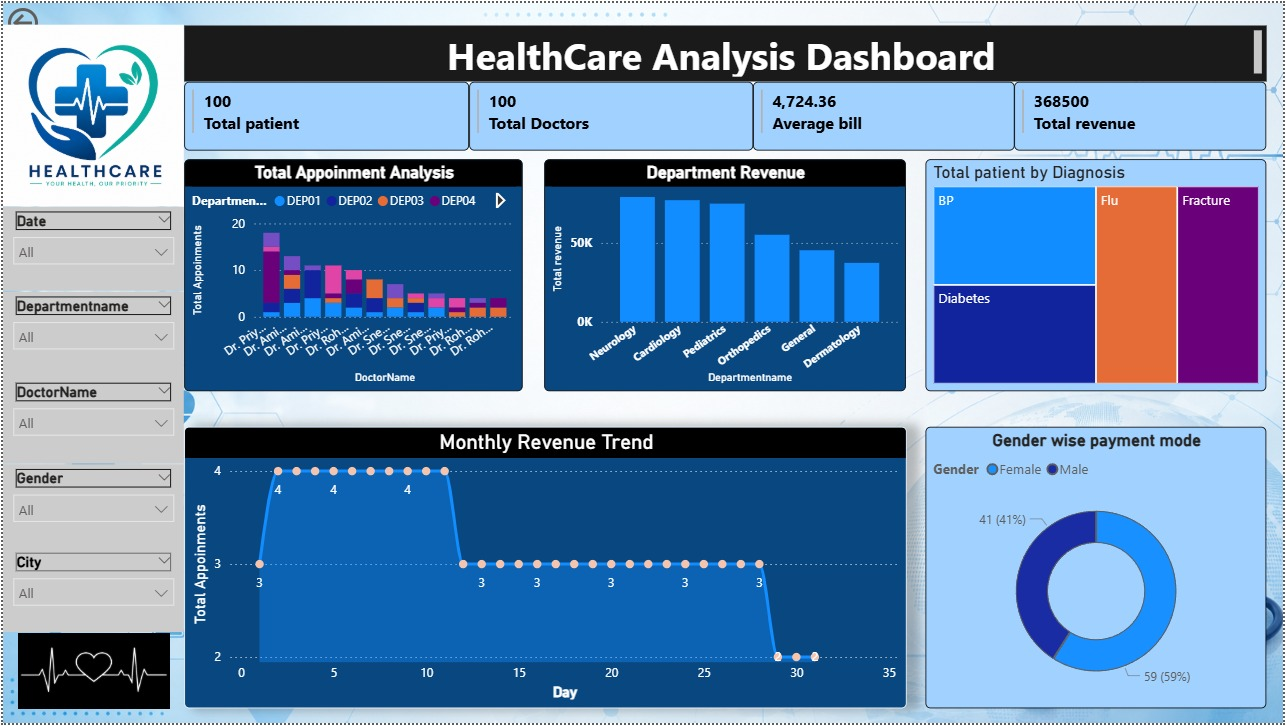

This screenshot's page, from the dashboard's own definition file:
{"tool":"powerbi","page":{"name":"Page 1","canvas":[1280,720],"ordinal":0},"visuals":[{"type":"image","box":[0,0,1280.3,720.2],"z":0},{"type":"multiRowCard","fields":{"Values":["Patients.Total patient"]},"box":[181,78.3,284.9,68.5],"z":1000},{"type":"multiRowCard","fields":{"Values":["Doctors.Total Doctors"]},"box":[465.9,78.3,283.7,68.5],"z":2000},{"type":"multiRowCard","fields":{"Values":["Billing.average bill"]},"box":[749.6,78.3,261.7,68.5],"z":3000},{"type":"multiRowCard","fields":{"Values":["Billing.Total revenue"]},"box":[1011.3,78.3,251.9,68.5],"z":4000},{"type":"lineChart","title":"Monthly Revenue Trend","fields":{"Y":["Appointments.Total Appoinments"],"Category":["Date table.Day"]},"box":[181,424.3,722.7,281.3],"z":5000},{"type":"columnChart","title":"Total Appoinment Analysis","fields":{"Category":["Doctors.DoctorName"],"Y":["Appointments.Total Appoinments"],"Series":["Departments.DepartmentID"]},"box":[181,156.5,338.7,232.3],"z":6000},{"type":"clusteredColumnChart","title":"Department Revenue","fields":{"Category":["Departments.Departmentname"],"Y":["Billing.Total revenue"]},"box":[541.7,156.5,362,232.3],"z":7000},{"type":"textbox","box":[181,22,1082.2,56.3],"z":8000},{"type":"actionButton","box":[0,0,100,40],"z":9000},{"type":"slicer","fields":{"Values":["Appointments.Date"]},"box":[0,204.2,181,84.4],"z":10000},{"type":"slicer","fields":{"Values":["Departments.Departmentname"]},"box":[0,288.6,181,86.8],"z":11000},{"type":"slicer","fields":{"Values":["Doctors.DoctorName"]},"box":[0,375.4,181,85.6],"z":12000},{"type":"slicer","fields":{"Values":["Patients.Gender"]},"box":[0,461,181,84.4],"z":13000},{"type":"slicer","fields":{"Values":["Patients.City"]},"box":[0,545.4,181,84.4],"z":14000},{"type":"image","box":[0,2.4,181,220.1],"z":15000},{"type":"image","box":[14.7,629.8,151.6,75.8],"z":16000},{"type":"donutChart","title":"Gender wise payment mode","fields":{"Category":["Patients.Gender"],"Y":["CountNonNull(Billing.PaymentMode)"]},"box":[922,424.3,341.2,281.3],"z":17000},{"type":"treemap","fields":{"Group":["Treatments.Diagnosis"],"Values":["Patients.Total patient"]},"box":[922,156.5,341.2,232.3],"z":18000}]}

Visuals, with their boxes in screenshot pixels (x1, y1, x2, y2), scaled from the page's 1280x720 canvas onto the 1286x726 screenshot:
image: x1=0, y1=0, x2=1285, y2=725
multiRowCard - Patients.Total patient: x1=182, y1=79, x2=468, y2=148
multiRowCard - Doctors.Total Doctors: x1=468, y1=79, x2=753, y2=148
multiRowCard - Billing.average bill: x1=753, y1=79, x2=1016, y2=148
multiRowCard - Billing.Total revenue: x1=1016, y1=79, x2=1269, y2=148
"Monthly Revenue Trend" lineChart: x1=182, y1=428, x2=908, y2=711
"Total Appoinment Analysis" columnChart: x1=182, y1=158, x2=522, y2=392
"Department Revenue" clusteredColumnChart: x1=544, y1=158, x2=908, y2=392
textbox: x1=182, y1=22, x2=1269, y2=79
actionButton: x1=0, y1=0, x2=100, y2=40
slicer - Appointments.Date: x1=0, y1=206, x2=182, y2=291
slicer - Departments.Departmentname: x1=0, y1=291, x2=182, y2=379
slicer - Doctors.DoctorName: x1=0, y1=379, x2=182, y2=465
slicer - Patients.Gender: x1=0, y1=465, x2=182, y2=550
slicer - Patients.City: x1=0, y1=550, x2=182, y2=635
image: x1=0, y1=2, x2=182, y2=224
image: x1=15, y1=635, x2=167, y2=711
"Gender wise payment mode" donutChart: x1=926, y1=428, x2=1269, y2=711
treemap - Treatments.Diagnosis x Patients.Total patient: x1=926, y1=158, x2=1269, y2=392
